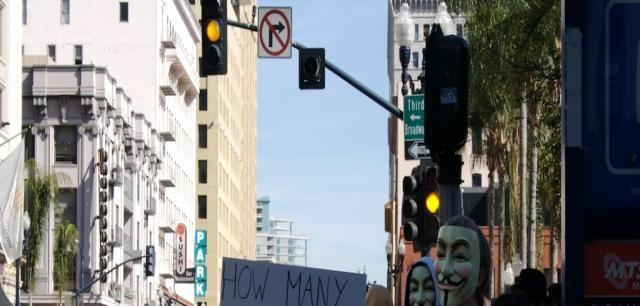yellow_light: (419, 158, 444, 242), (201, 0, 227, 75)
